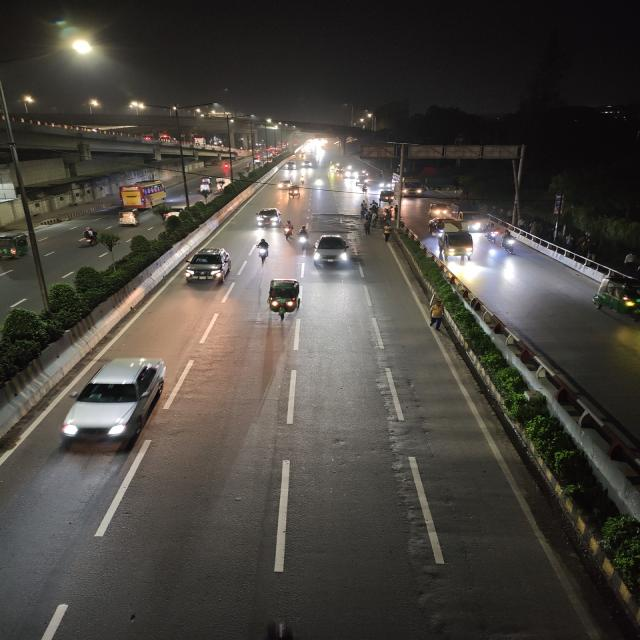bus: (117, 179, 168, 210)
car: (54, 353, 175, 453), (181, 244, 233, 292), (311, 234, 354, 272), (252, 207, 282, 230), (277, 177, 292, 189)
cng: (588, 274, 640, 322), (262, 276, 306, 324), (0, 231, 33, 263), (116, 208, 142, 228), (426, 203, 453, 219), (197, 176, 214, 193), (378, 189, 396, 203), (286, 186, 301, 200)
motorcycle: (76, 225, 102, 249), (253, 238, 273, 266), (500, 231, 520, 257), (297, 224, 311, 253), (282, 219, 295, 241), (485, 228, 499, 244)
pedestrian: (428, 299, 448, 332), (381, 222, 395, 244), (362, 217, 373, 236)
pickup_van: (439, 230, 478, 262)
truck: (457, 202, 482, 229)
